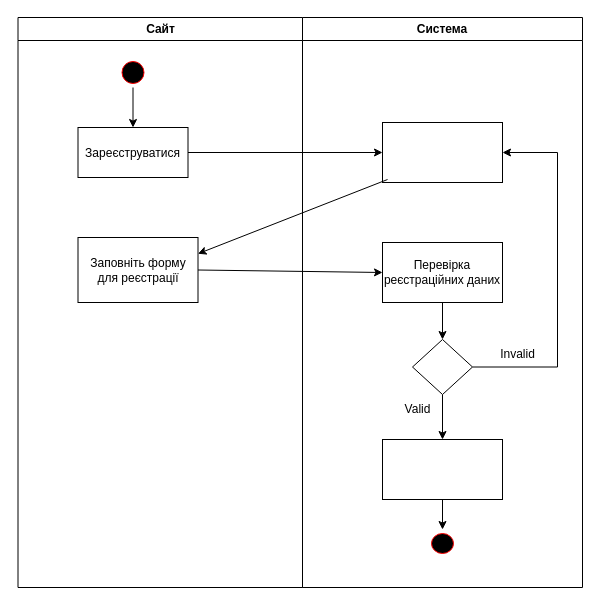
Some shapes in this 600 by 605 pixel diagram are drawn without their labels. The shapes that lost their labels are listed below. From the top down, each one's centre as x and y in pixels, then its label:
At (x=442, y=152): "Форма для реєстрації".
At (x=442, y=469): "Зберігання даних у системі".
